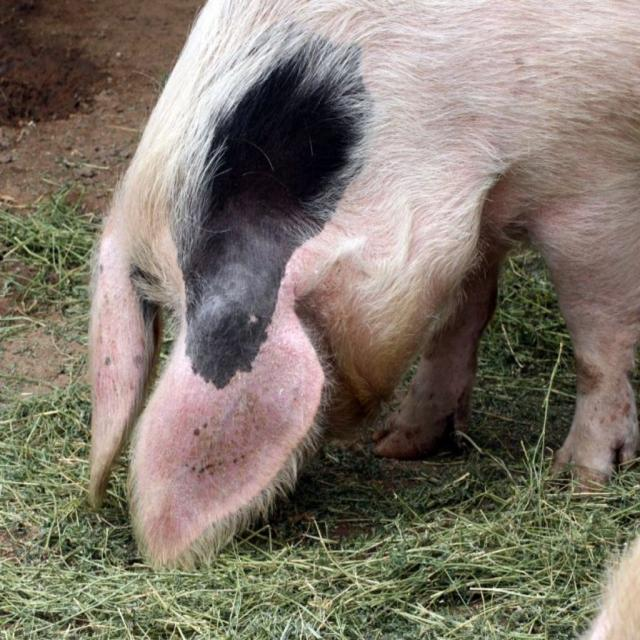Pig: (87, 0, 639, 570), (588, 532, 639, 639)
